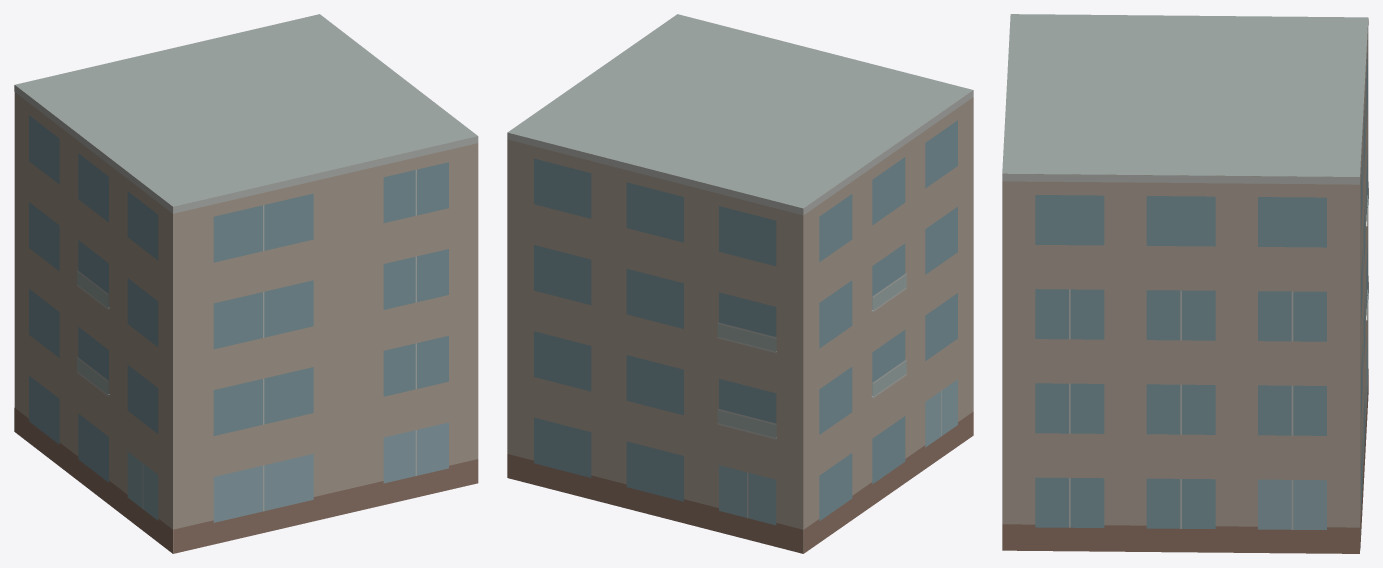
The model's file is residential-c39ecf75-f5d5-4ccf-907a-3af6d0da0c1e.glb.
3 views of the same model, side by side, from view 1: azimuth 30°, elevation 25°; view 2: azimuth 150°, elevation 25°; view 3: azimuth 270°, elevation 25° (orthographic). The views are drawn at different scales.
Visible parts, largest first — view 1: residential-c39ecf75-f5d5-4ccf-907a-3af6d0da0c1e.tmp; view 2: residential-c39ecf75-f5d5-4ccf-907a-3af6d0da0c1e.tmp; view 3: residential-c39ecf75-f5d5-4ccf-907a-3af6d0da0c1e.tmp.
Boxes of the visible parts, x1,y1,x2,y2 form: residential-c39ecf75-f5d5-4ccf-907a-3af6d0da0c1e.tmp: (14, 14, 478, 553); residential-c39ecf75-f5d5-4ccf-907a-3af6d0da0c1e.tmp: (507, 14, 973, 553); residential-c39ecf75-f5d5-4ccf-907a-3af6d0da0c1e.tmp: (1002, 14, 1368, 553).
Bounding box in the file's own units: 11.33 × 12.2 × 10.77.
